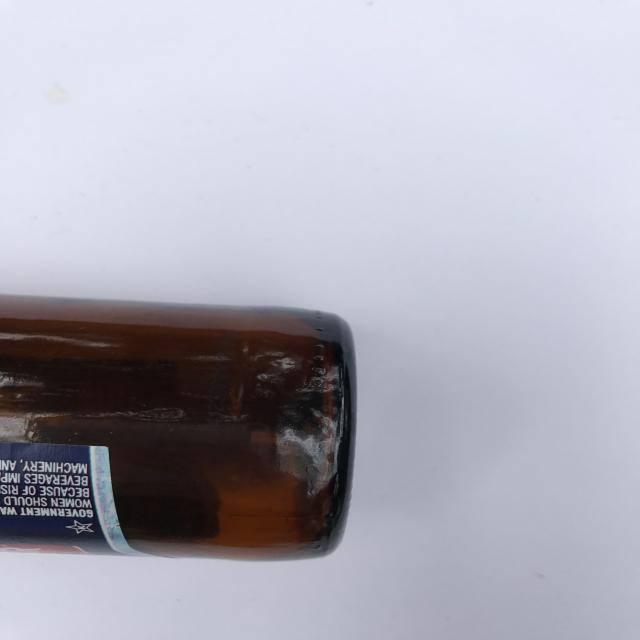glass: (0, 293, 358, 562)
